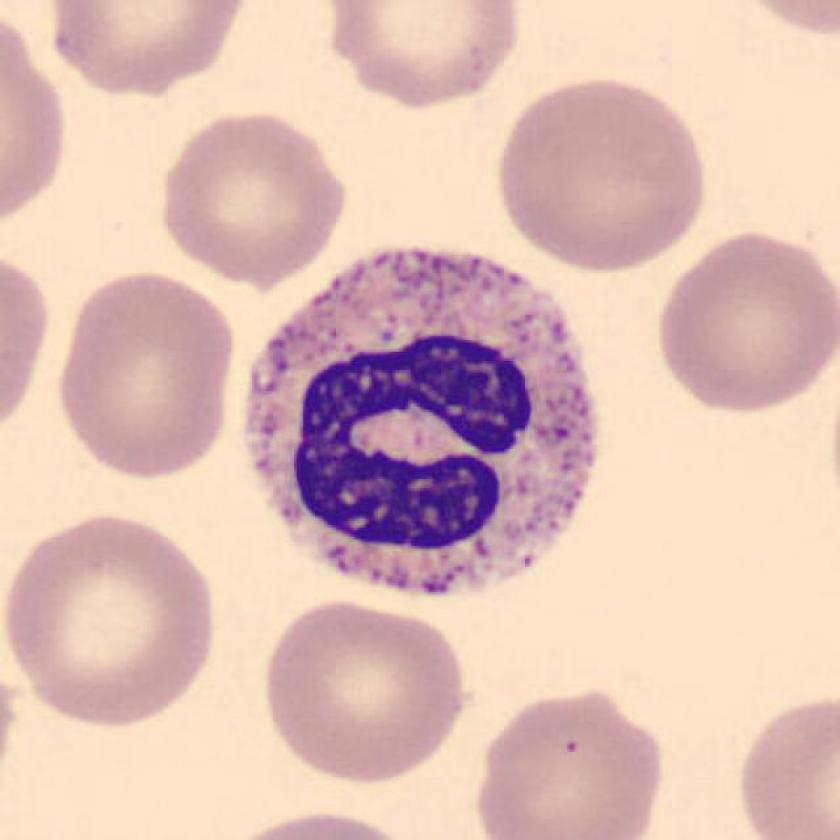neutrophil: (246, 248, 597, 594)
